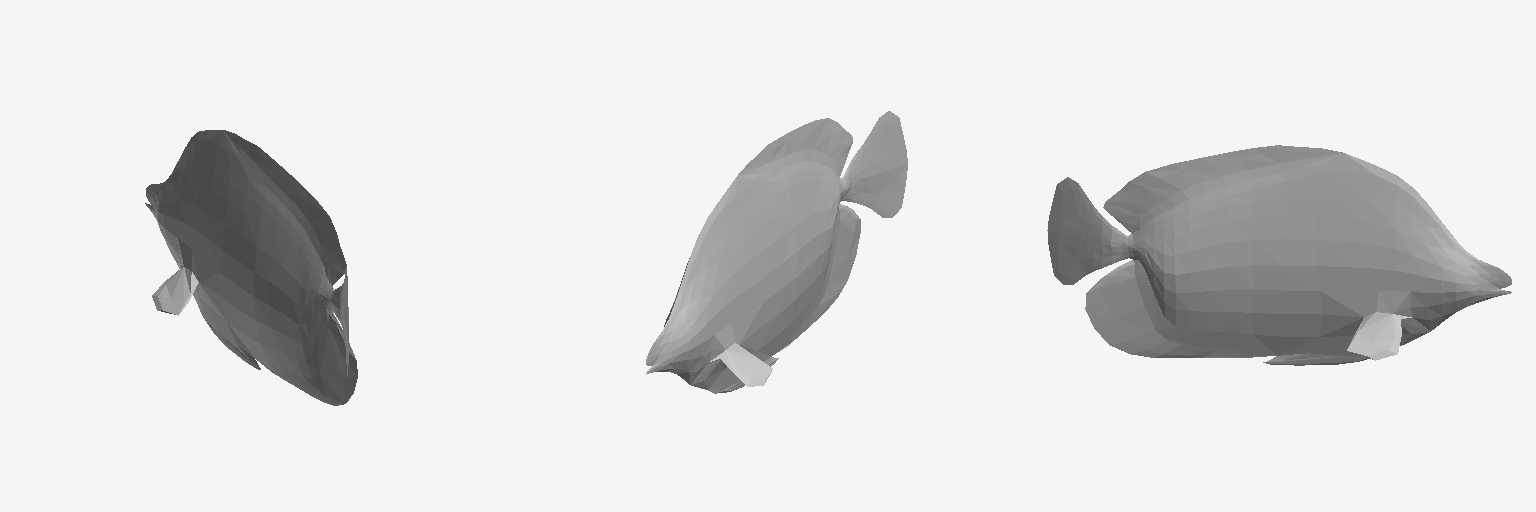
Rendered from backed black butterflyfishBanim.obj.
The picture shows the model from 3 angles: view 1: azimuth 30°, elevation 25°; view 2: azimuth 150°, elevation 25°; view 3: azimuth 270°, elevation 25°; orthographic projection.
Visible parts, largest first — view 1: Plane_Plane.001; view 2: Plane_Plane.001; view 3: Plane_Plane.001.
Part boxes in pixels (left/top/right/bottom): Plane_Plane.001: left=145, top=130, right=357, bottom=405; Plane_Plane.001: left=646, top=111, right=907, bottom=393; Plane_Plane.001: left=1047, top=145, right=1511, bottom=365.
Size of the model in its own units: 2.18 by 4.88 by 9.26.